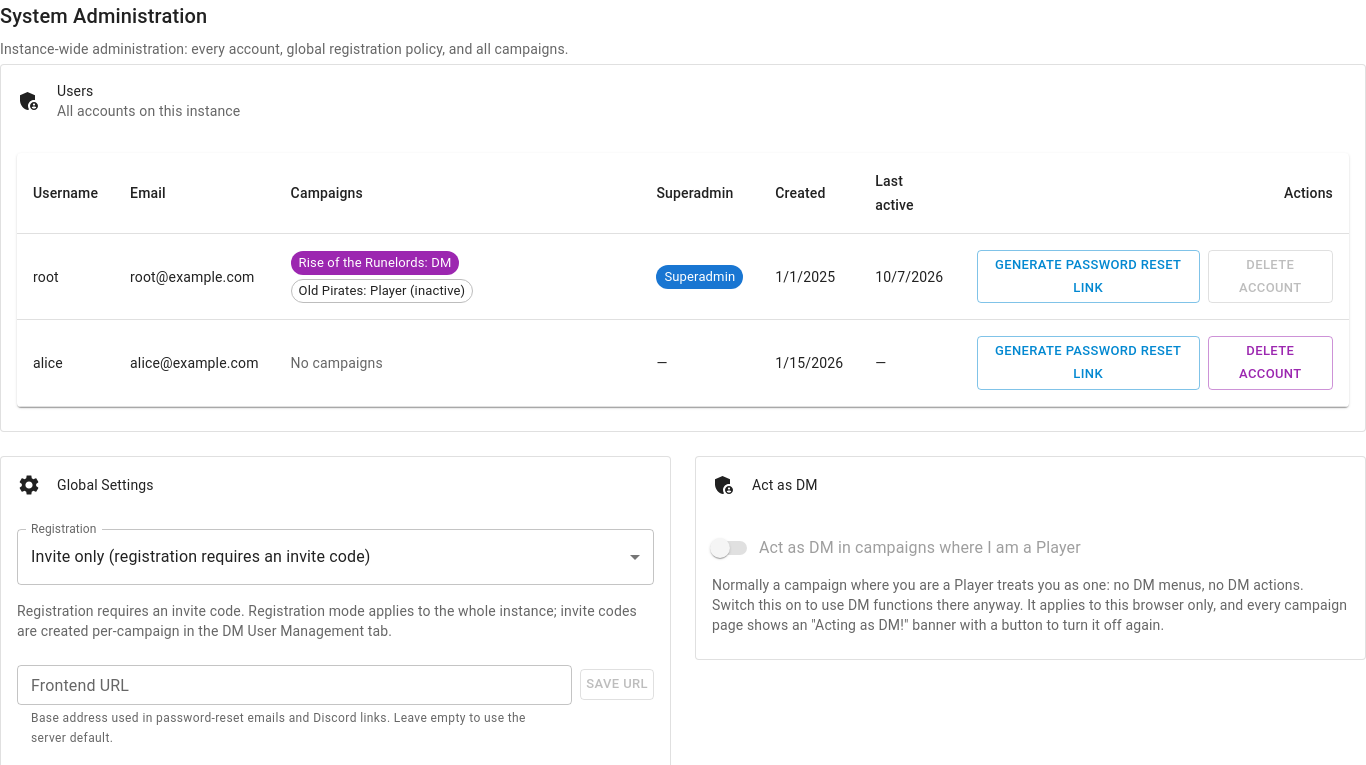
Test case: SystemAdmin › Users section › describes account deletion as a deactivation, not a permanent removal (F-1454)
expect the text "alice" is shown: met, box [17,320,114,406]
What coordinates should you click on to do the following:
click the button "Delete account" in the row of "alice@example.com"
I would click on:
 (1270, 363)
Its box is [1208,336,1333,390].
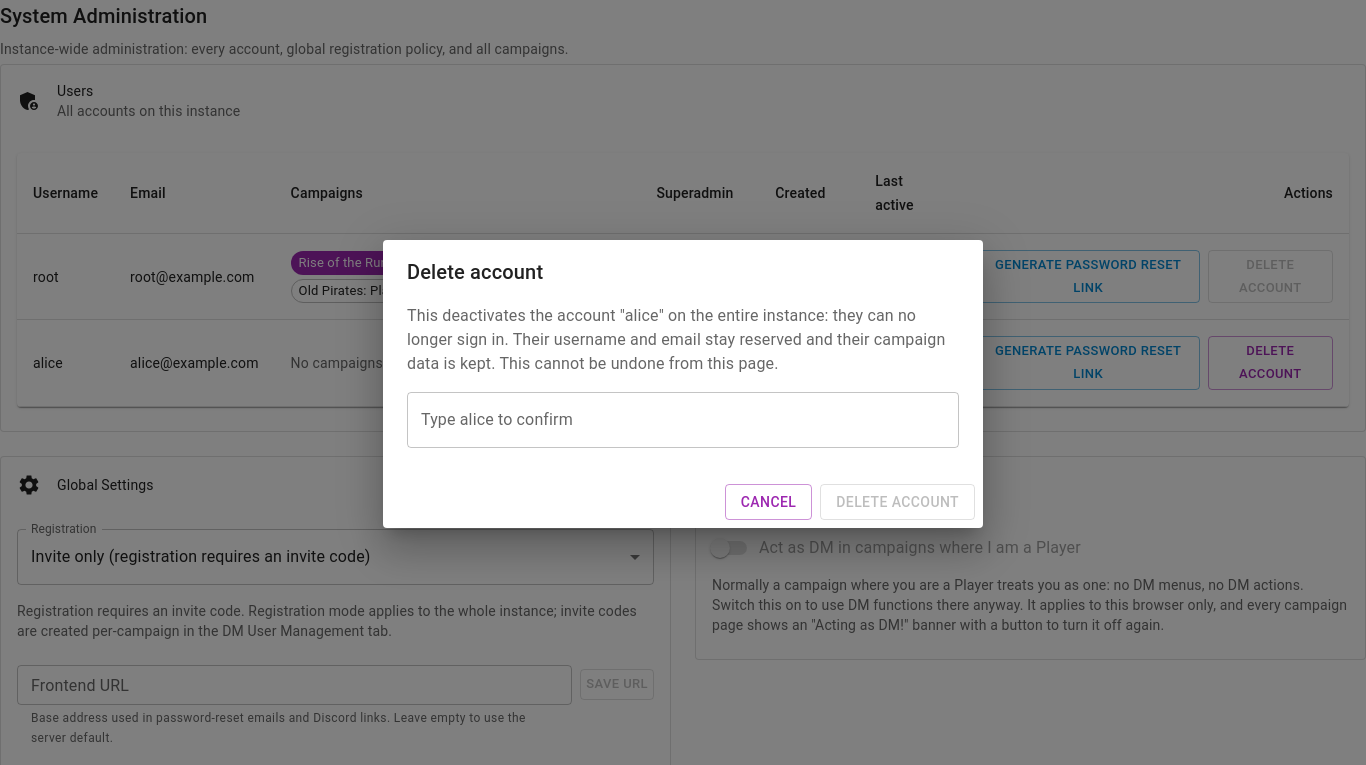
expect the text "deactivates the account \"alice\"" is shown: met, box [407,306,946,373]
